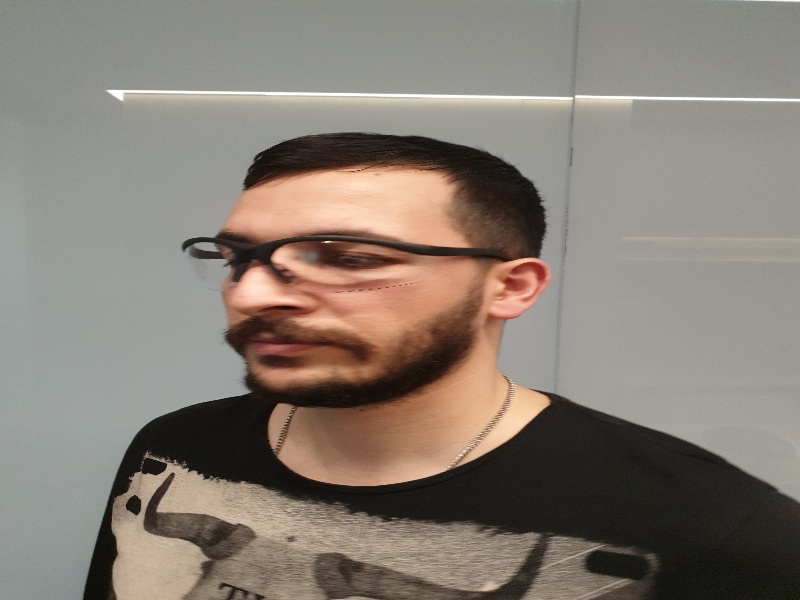Gozluk: (181, 235, 510, 284)
